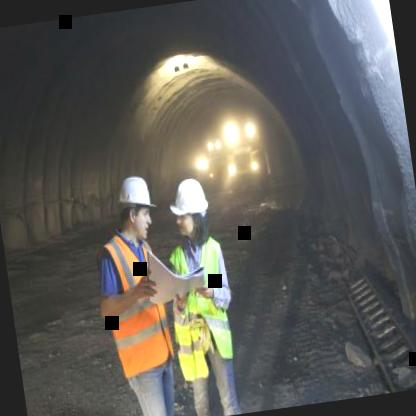helmet: (110, 168, 160, 244), (166, 172, 214, 245)
